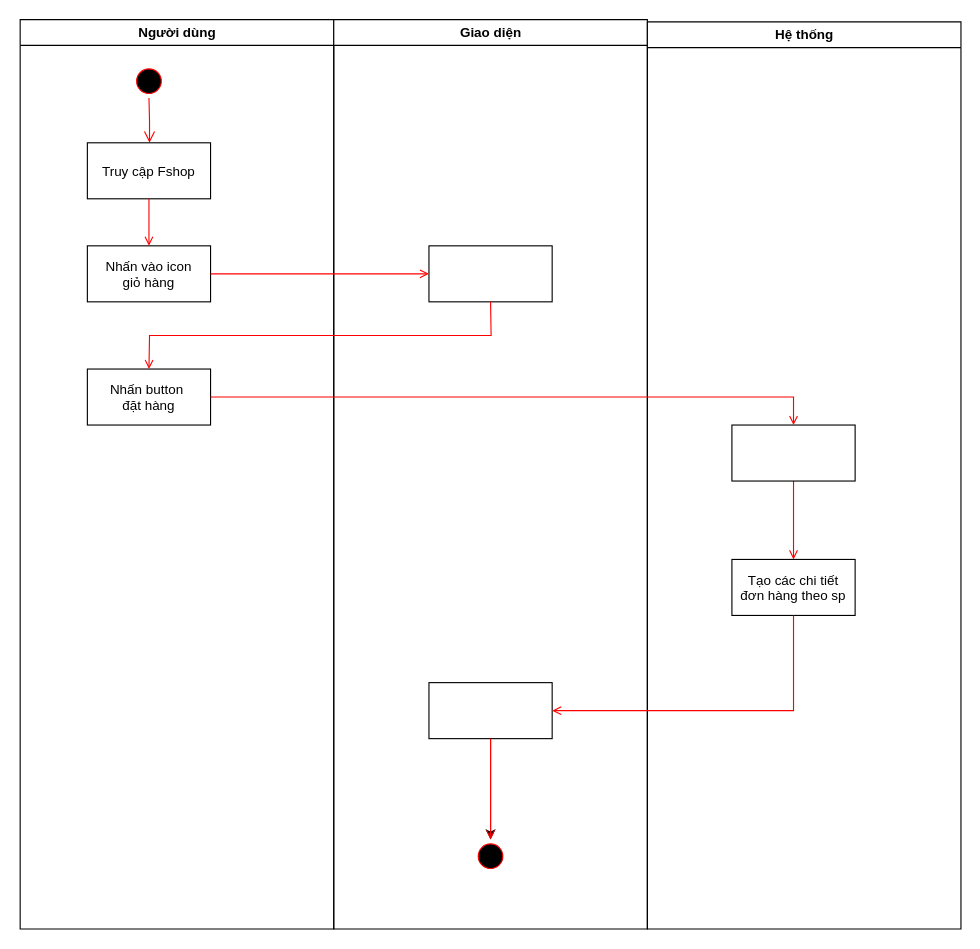
The diagram is 980 pixels wide and 949 high, and some of its shapes have lost their labels. The centre of each missing label's shape, as x and y in pixels:
Trang chủ Fshop: pixel 490 710
Trang giỏ hàng: pixel 490 273
Tạo đơn hàng với trạng thái là "mới tạo": pixel 793 452
